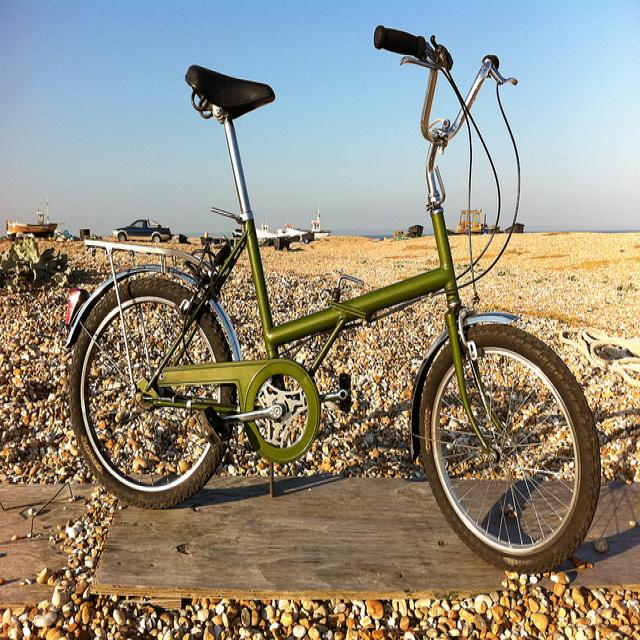Vehicle: (111, 218, 172, 245)
